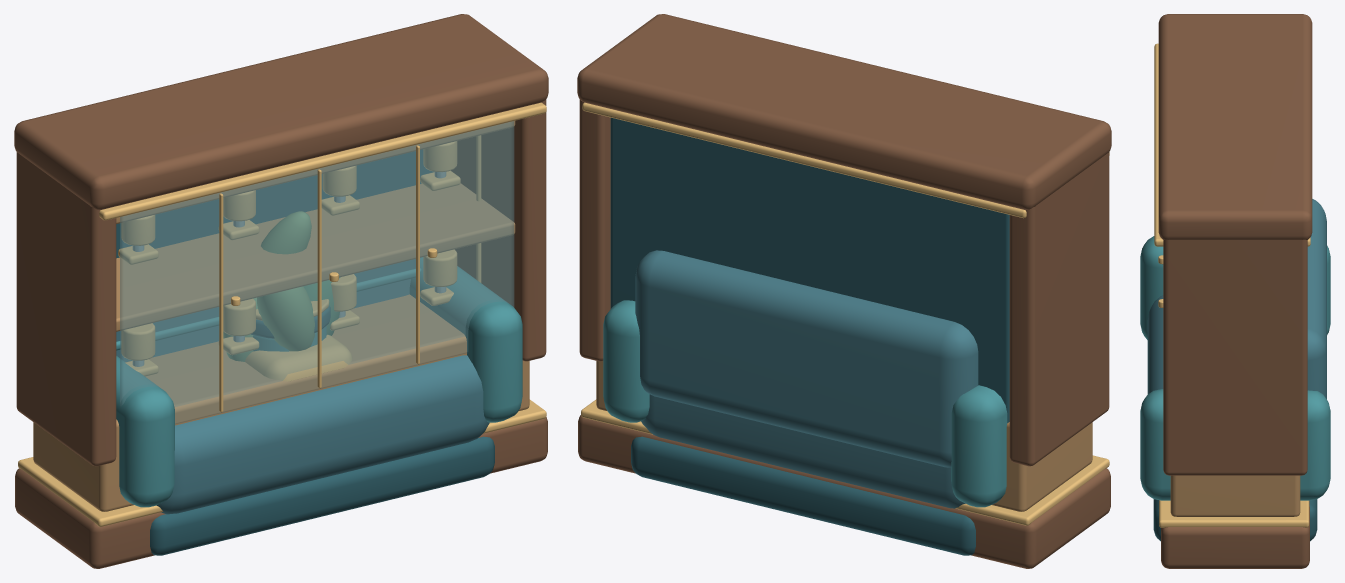
The model's file is school_dressing.glb.
3 views of the same model, side by side, from view 1: azimuth 30°, elevation 25°; view 2: azimuth 150°, elevation 25°; view 3: azimuth 270°, elevation 25° (orthographic). The views are drawn at different scales.
Visible parts, largest first — view 1: Case - blue glass front, Case - upper canopy, Sofa - rounded seat cushion, Case - vertical walnut stile, Case - framed shelf.001, Case - lower cabinet, Case - vertical walnut stile.001, Sofa - shadowed plinth, Case - base plinth, Sofa - padded arm.001, Sofa - padded arm, Case - back panel (+19 smaller); view 2: Case - back panel, Case - upper canopy, Sofa - back cushion, Case - vertical walnut stile, Sofa - shadowed plinth, Sofa - rounded seat cushion, Case - base plinth, Case - vertical walnut stile.001, Sofa - padded arm, Sofa - padded arm.001, Case - lower cabinet, Case - canopy trim (+1 smaller); view 3: Case - upper canopy, Case - vertical walnut stile.001, Case - base plinth, Case - lower cabinet, Sofa - padded arm.001, Sofa - back cushion, Sofa - padded arm, Case - brass base reveal, Sofa - rounded seat cushion, Case - canopy trim, Sofa - shadowed plinth.
Boxes of the visible parts, bbox=[...] form: Case - blue glass front: bbox=[120, 121, 514, 424]; Case - upper canopy: bbox=[14, 14, 548, 209]; Sofa - rounded seat cushion: bbox=[156, 355, 489, 514]; Case - vertical walnut stile: bbox=[16, 152, 116, 466]; Case - framed shelf.001: bbox=[116, 183, 515, 331]; Case - lower cabinet: bbox=[33, 294, 529, 511]; Case - vertical walnut stile.001: bbox=[451, 99, 546, 361]; Sofa - shadowed plinth: bbox=[150, 436, 494, 555]; Case - base plinth: bbox=[15, 417, 547, 568]; Sofa - padded arm.001: bbox=[410, 257, 522, 422]; Sofa - padded arm: bbox=[116, 356, 174, 507]; Case - back panel: bbox=[116, 149, 433, 258]; Case - back panel: bbox=[610, 117, 1009, 422]; Case - upper canopy: bbox=[577, 14, 1111, 209]; Sofa - back cushion: bbox=[635, 250, 978, 467]; Case - vertical walnut stile: bbox=[1009, 152, 1109, 466]; Sofa - shadowed plinth: bbox=[631, 436, 975, 555]; Sofa - rounded seat cushion: bbox=[641, 394, 965, 508]; Case - base plinth: bbox=[578, 415, 1110, 568]; Case - vertical walnut stile.001: bbox=[579, 99, 610, 361]; Sofa - padded arm: bbox=[951, 385, 1007, 507]; Sofa - padded arm.001: bbox=[603, 300, 649, 422]; Case - lower cabinet: bbox=[596, 361, 1092, 511]; Case - canopy trim: bbox=[582, 102, 1109, 218]; Case - upper canopy: bbox=[1158, 14, 1312, 240]; Case - vertical walnut stile.001: bbox=[1163, 239, 1307, 475]; Case - base plinth: bbox=[1161, 501, 1309, 568]; Case - lower cabinet: bbox=[1170, 475, 1300, 516]; Sofa - padded arm.001: bbox=[1140, 389, 1330, 500]; Sofa - back cushion: bbox=[1307, 199, 1326, 398]; Sofa - padded arm: bbox=[1140, 236, 1330, 339]; Case - brass base reveal: bbox=[1159, 500, 1309, 527]; Sofa - rounded seat cushion: bbox=[1147, 295, 1163, 393]; Case - canopy trim: bbox=[1154, 43, 1310, 246]; Sofa - shadowed plinth: bbox=[1153, 499, 1317, 541].
Size of the model in its own units: 2 by 1.64 by 0.79.
